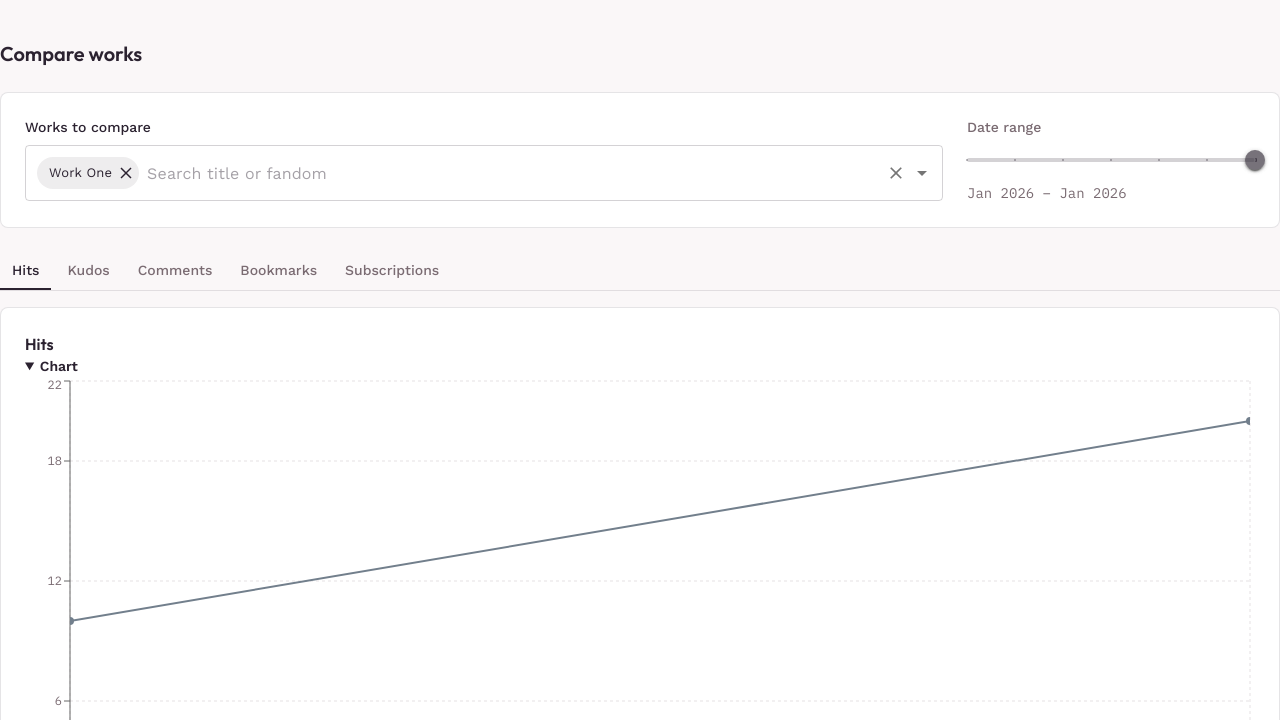
Test case: WorkComparisonSection: Bookmarks By Type › the checkboxes are keyboard-operable (Space toggles)
Click the tab "Bookmarks" at (279, 271), box [228,252,329,290]
(page scrolled)
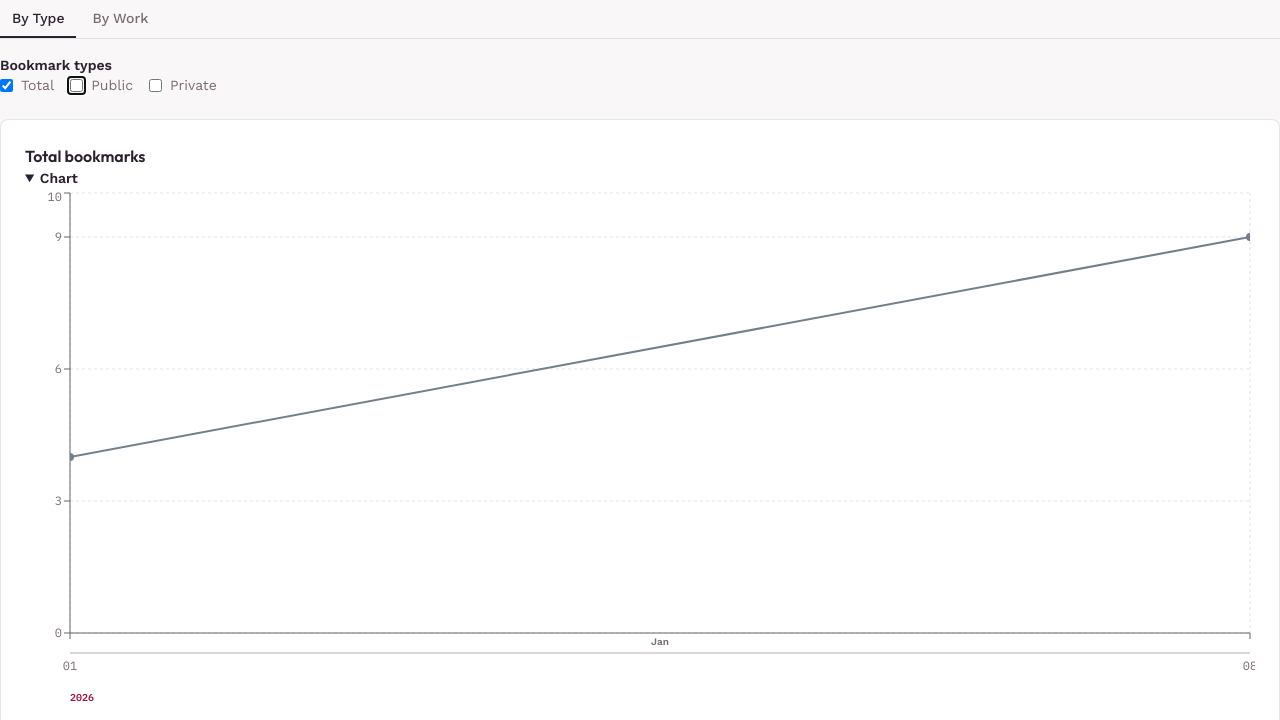
Type keys " "
(page scrolled)
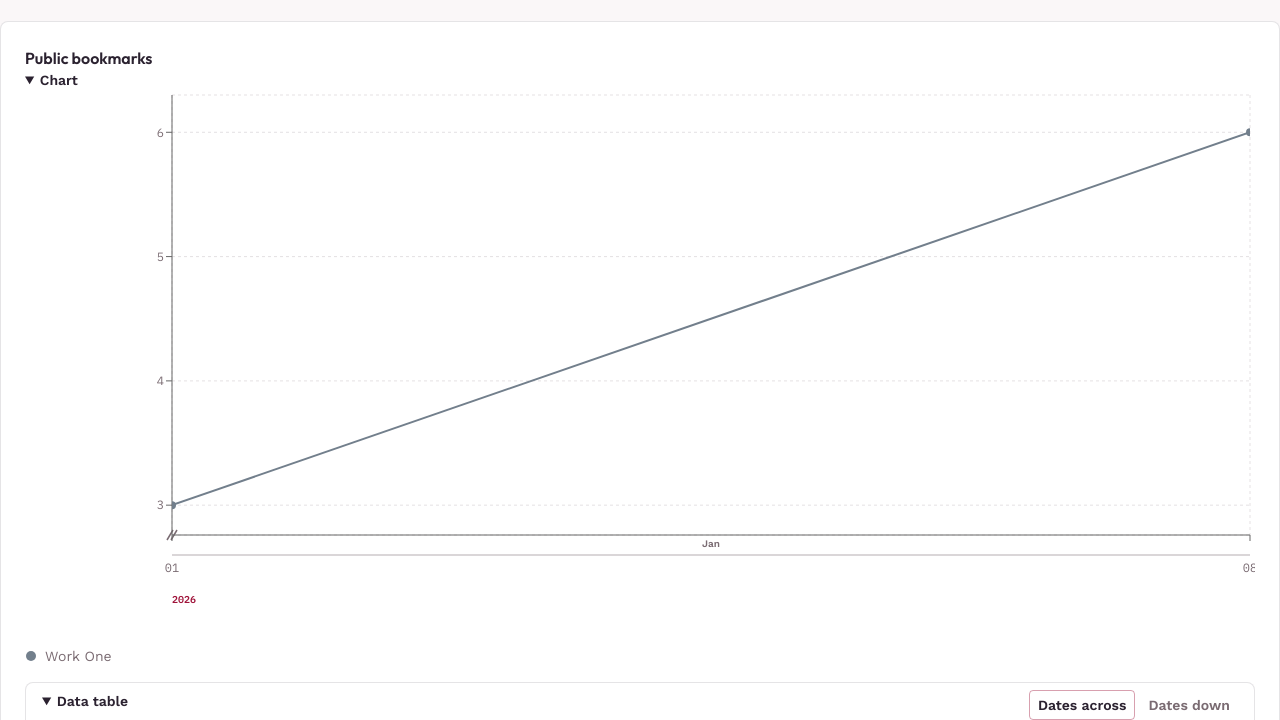
expect the picture named "public bookmarks" is shown: met
